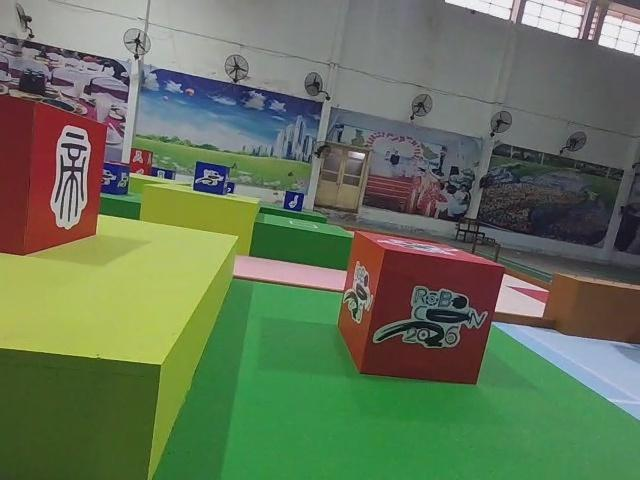R1: (335, 225, 508, 387)
R2 Fake: (0, 91, 109, 257)
